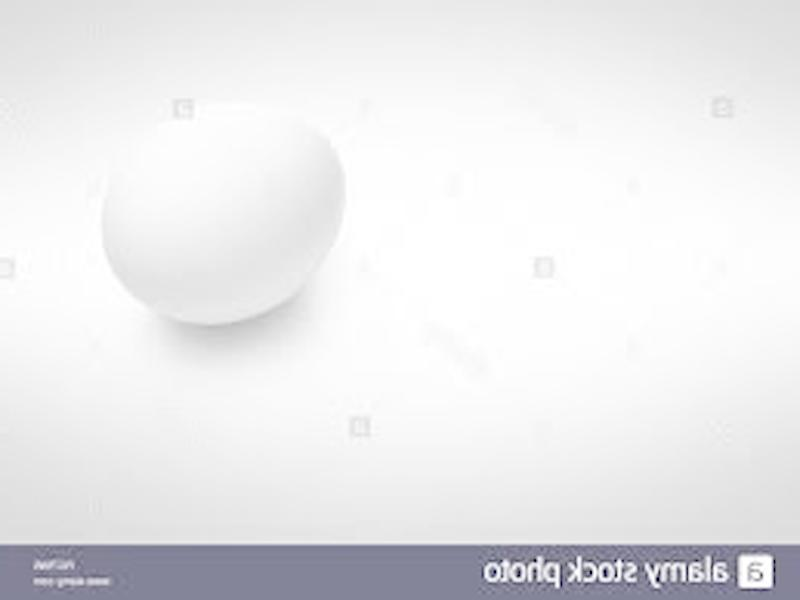Eggs: (98, 105, 342, 325)
